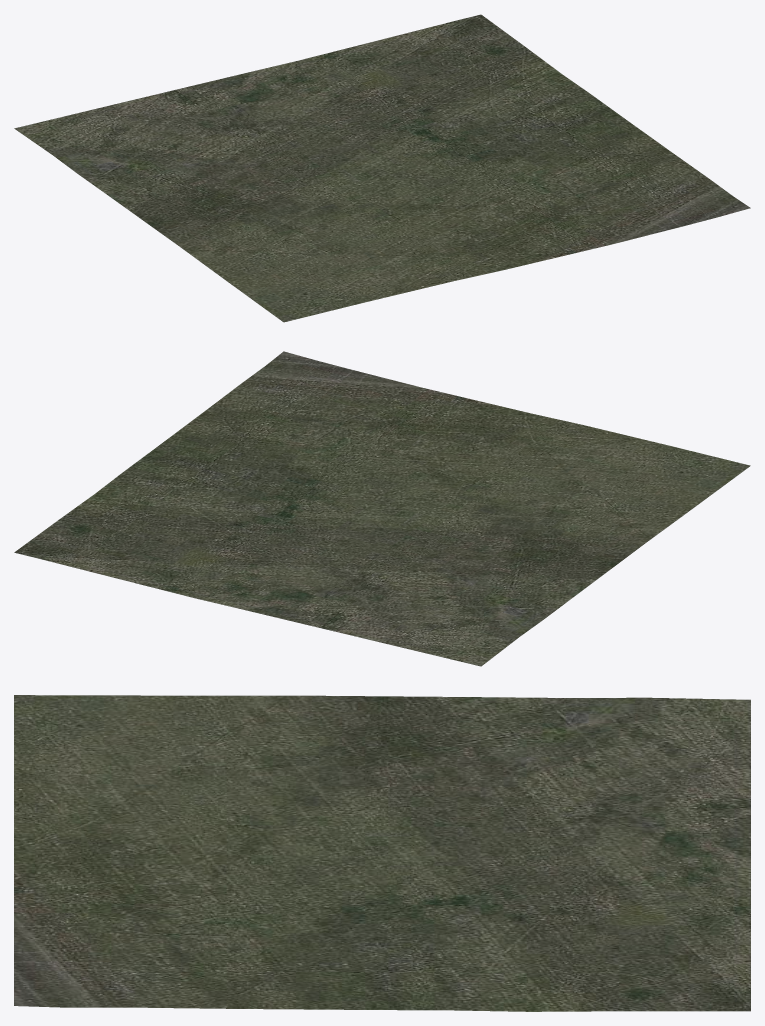
The model's file is map_15_8185_13780.dae.
3 renders of one model, top to bottom at view 1: azimuth 30°, elevation 25°; view 2: azimuth 150°, elevation 25°; view 3: azimuth 270°, elevation 25°, orthographic. The views are drawn at different scales.
Visible parts, largest first — view 1: Ter0; view 2: Ter0; view 3: Ter0.
Boxes of the visible parts, x1=… form: Ter0: x1=14, y1=14, x2=750, y2=322; Ter0: x1=14, y1=351, x2=750, y2=666; Ter0: x1=14, y1=695, x2=750, y2=1011.
Size of the model in its own units: 63.87 by 63.88 by 0.7.
Materials: 3 (3 with a texture image).
